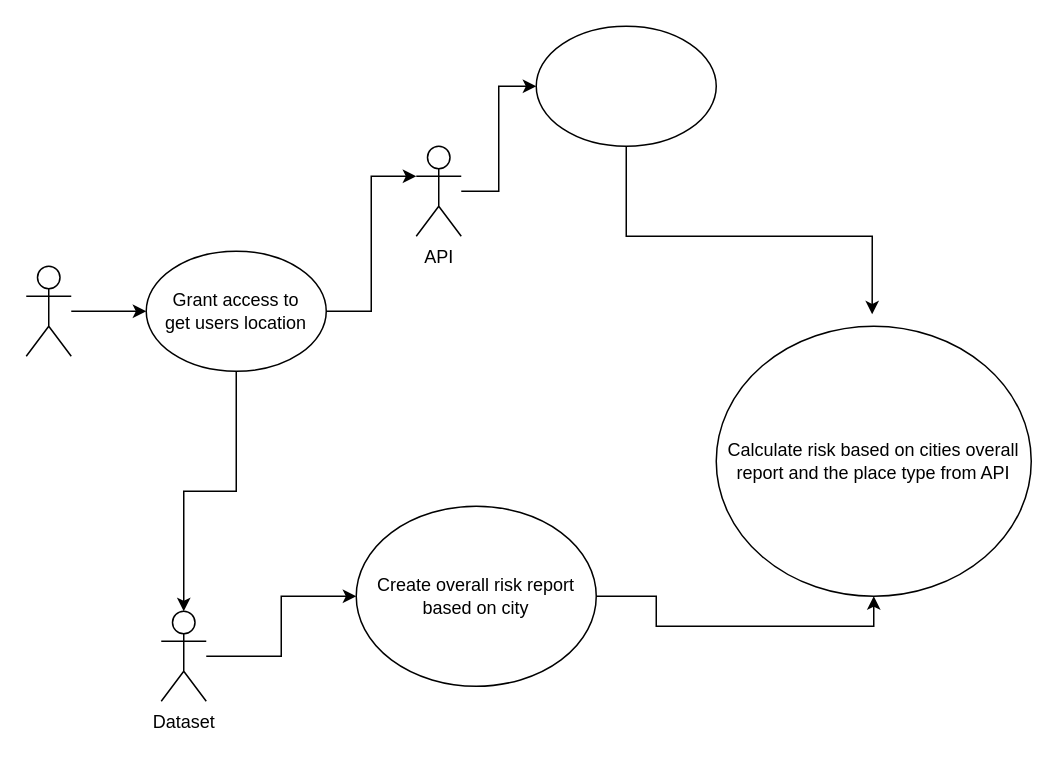
This 1058x759 diagram has some shape labels left out. The shapes that lost their labels are listed below. From the top down, each one's box as (x1, y1, x2, y2) in pixels, then its label:
(535, 25, 716, 146): Take location and find what type of place the user is in
(25, 265, 71, 356): User
